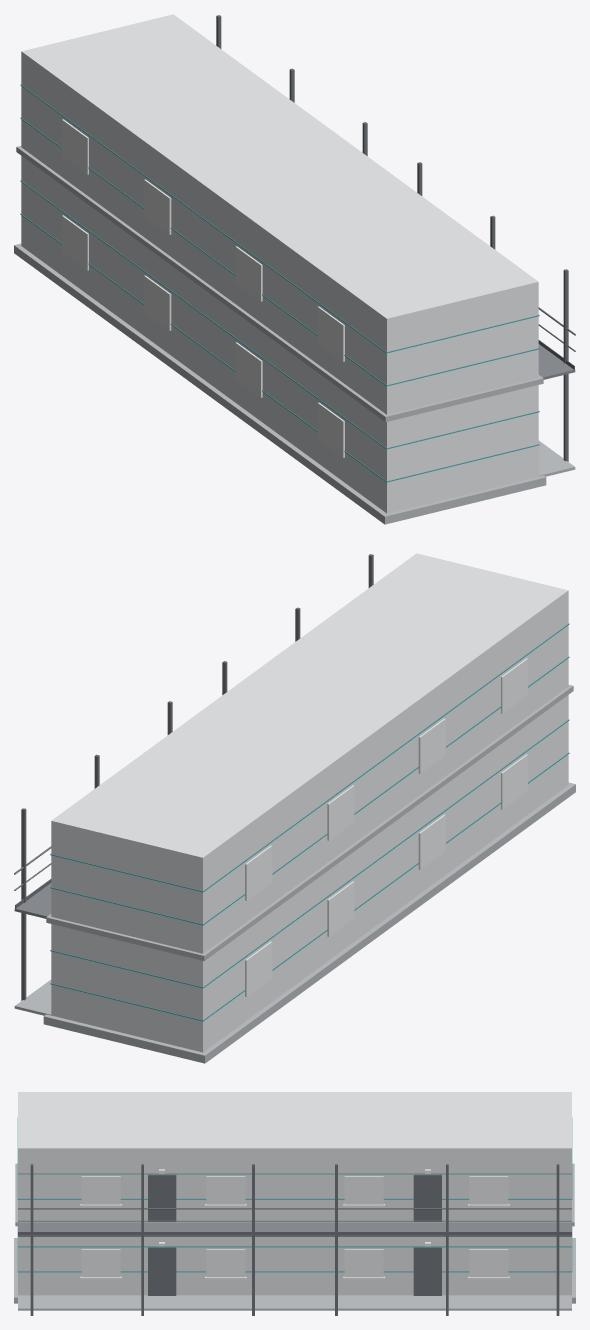
File: barracks_dormitory_block.glb
3 renders of one model, top to bottom at view 1: azimuth 30°, elevation 25°; view 2: azimuth 150°, elevation 25°; view 3: azimuth 270°, elevation 25°, orthographic. The views are drawn at different scales.
Visible parts, largest first — view 1: Cube.007, Cube.001, Cube, Cube.006, Cube.016, Cube.036, Cube.041, Cube.011, Cube.021, Cube.031, Cube.062, Cube.003 (+7 smaller); view 2: Cube.007, Cube.001, Cube, Cube.006, Cube.021, Cube.036, Cube.041, Cube.016, Cube.026, Cube.046, Cube.067, Cube.003 (+7 smaller); view 3: Cube.007, Cube.001, Cube.061, Cube.060, Cube.068, Cube.049, Cube.052, Cube.006, Cube.055, Cube.058, Cube.005, Cube.028 (+19 smaller).
Boxes of the visible parts, box(x1,y1,x2,y2) form: Cube.007: box(21, 14, 538, 414); Cube.001: box(21, 156, 538, 513); Cube: box(14, 243, 546, 524); Cube.006: box(16, 146, 543, 422); Cube.016: box(235, 342, 262, 397); Cube.036: box(235, 246, 262, 301); Cube.041: box(144, 179, 171, 234); Cube.011: box(317, 402, 344, 457); Cube.021: box(144, 275, 171, 330); Cube.031: box(317, 306, 344, 361); Cube.062: box(563, 269, 568, 461); Cube.003: box(20, 180, 539, 449); Cube.007: box(51, 553, 568, 953); Cube.001: box(51, 695, 568, 1052); Cube: box(43, 782, 575, 1063); Cube.006: box(46, 685, 573, 961); Cube.021: box(327, 881, 354, 936); Cube.036: box(418, 718, 445, 773); Cube.041: box(327, 785, 354, 840); Cube.016: box(418, 814, 445, 869); Cube.026: box(245, 941, 272, 996); Cube.046: box(245, 845, 272, 900); Cube.067: box(21, 808, 26, 1000); Cube.003: box(50, 719, 569, 988); Cube.007: box(18, 1092, 571, 1220); Cube.001: box(18, 1237, 571, 1295); Cube.061: box(18, 1295, 571, 1310); Cube.060: box(18, 1222, 571, 1236); Cube.068: box(18, 1232, 571, 1234); Cube.049: box(148, 1247, 176, 1295); Cube.052: box(413, 1247, 441, 1295); Cube.006: box(15, 1163, 574, 1226); Cube.055: box(148, 1174, 176, 1221); Cube.058: box(413, 1174, 441, 1221); Cube.005: box(17, 1117, 572, 1174); Cube.028: box(81, 1176, 120, 1204).
Bounding box in the file's own units: 6.15 × 6.12 × 20.3.
